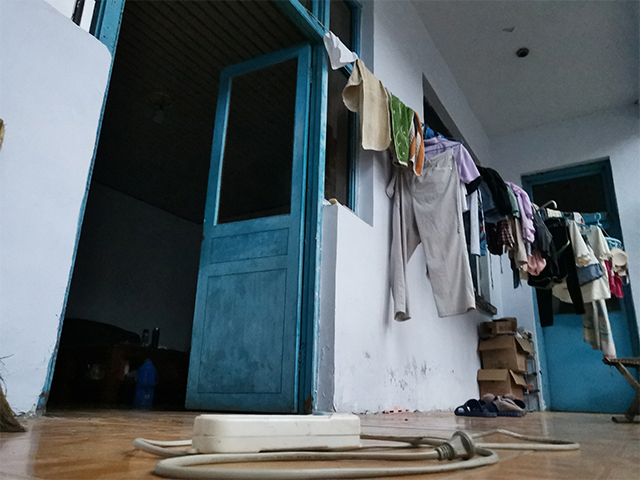slippers: (453, 395, 526, 419)
stool: (601, 353, 640, 425)
table: (52, 341, 192, 407)
wire: (131, 411, 583, 479)
